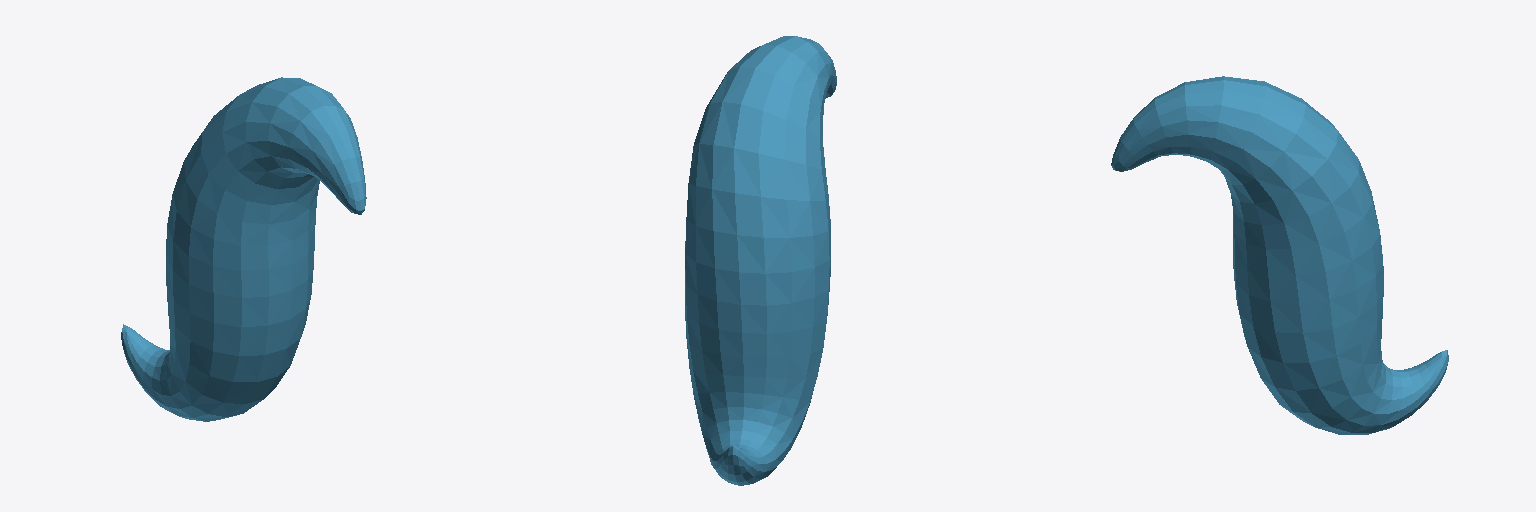
The model's file is tailmodelwoona.obj.
The picture shows the model from 3 angles: view 1: azimuth 30°, elevation 25°; view 2: azimuth 150°, elevation 25°; view 3: azimuth 270°, elevation 25°; orthographic projection.
Visible parts, largest first — view 1: vn_woona_body2_model0; view 2: vn_woona_body2_model0; view 3: vn_woona_body2_model0.
Boxes of the visible parts, <box> form: vn_woona_body2_model0: <box>121,77,366,421</box>; vn_woona_body2_model0: <box>685,36,836,485</box>; vn_woona_body2_model0: <box>1111,76,1448,434</box>.
Bounding box in the file's own units: 8.19 × 22.31 × 18.41.